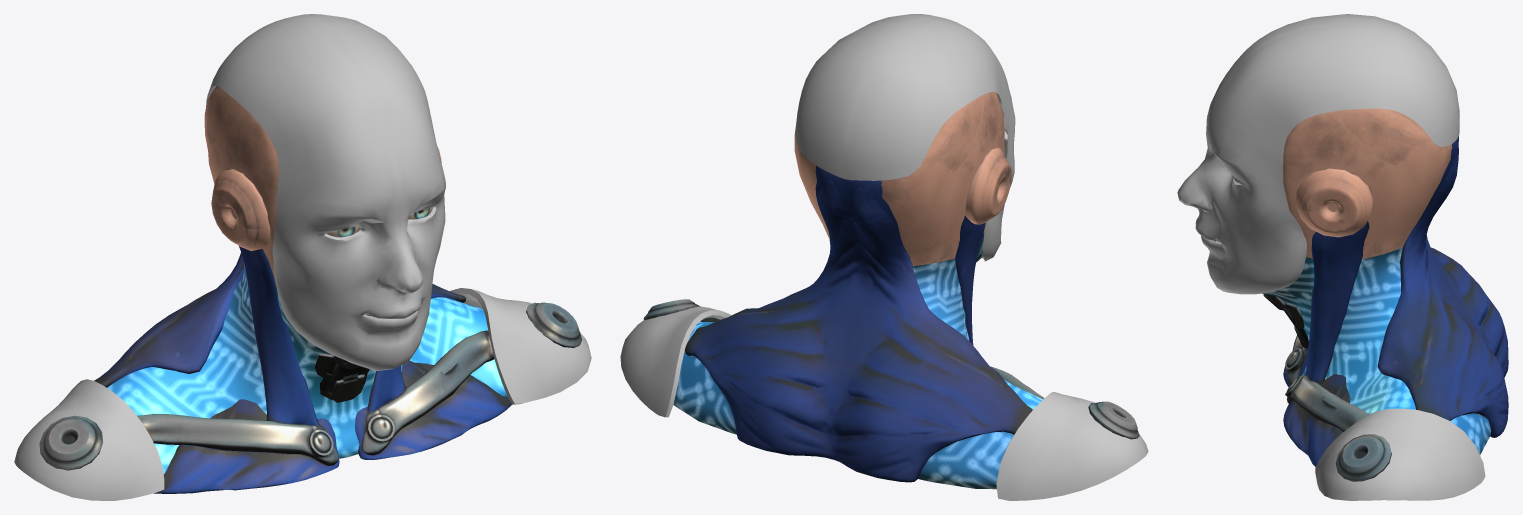
Rendered from RobotHead.glb.
3 views of the same model, side by side, from view 1: azimuth 30°, elevation 25°; view 2: azimuth 150°, elevation 25°; view 3: azimuth 270°, elevation 25° (orthographic). The views are drawn at different scales.
Visible parts, largest first — view 1: Object_2, Object_5, Object_4, Object_3, Object_8; view 2: Object_8, Object_2, Object_5, Object_3, Object_4; view 3: Object_2, Object_5, Object_8, Object_3, Object_4.
Boxes of the visible parts, x1,y1,x2,y2 form: Object_2: (206, 14, 591, 457); Object_5: (107, 85, 507, 493); Object_4: (137, 246, 511, 465); Object_3: (14, 147, 582, 500); Object_8: (94, 252, 465, 387); Object_8: (685, 165, 1032, 482); Object_2: (620, 14, 1015, 417); Object_5: (673, 92, 1042, 489); Object_3: (643, 147, 1148, 500); Object_4: (700, 215, 1044, 399); Object_2: (1177, 14, 1485, 500); Object_5: (1262, 108, 1491, 454); Object_8: (1377, 136, 1508, 437); Object_3: (1285, 168, 1391, 481); Object_4: (1283, 335, 1368, 466).
Bounding box in the file's own units: 2.06 × 1.49 × 1.18.
1 material, 1 textured.
